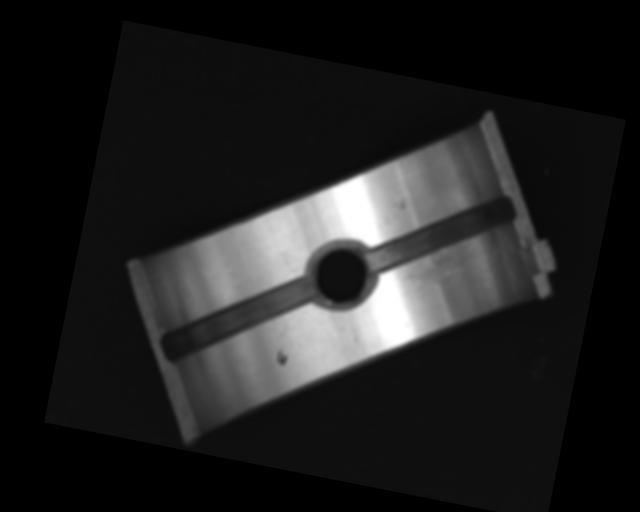blot: (274, 347, 289, 367)
bruise: (391, 193, 410, 212)
gap: (158, 252, 315, 385), (365, 171, 519, 294)
hole: (305, 234, 379, 314)
nick: (341, 321, 369, 362)
scratch: (398, 228, 485, 302)
